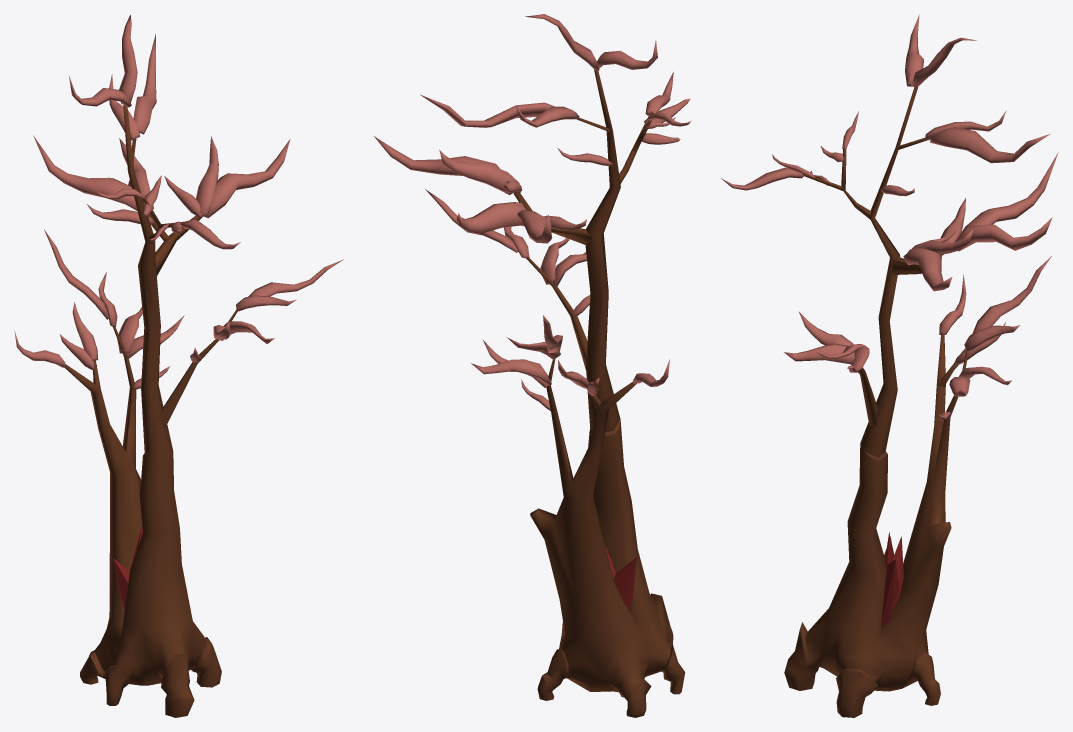
The model's file is Biome_1_Tree_A_var_3.glb.
The picture shows the model from 3 angles, left to right: view 1: azimuth 30°, elevation 25°; view 2: azimuth 150°, elevation 25°; view 3: azimuth 270°, elevation 25°; orthographic projection. The views are drawn at different scales.
Visible parts, largest first — view 1: Tree_A_var_3; view 2: Tree_A_var_3; view 3: Tree_A_var_3.
Part boxes in pixels (box(x1,y1,x2,y2)): Tree_A_var_3: box(14, 14, 343, 717); Tree_A_var_3: box(374, 14, 690, 717); Tree_A_var_3: box(721, 14, 1058, 717).
Size of the model in its own units: 2.6 by 5.68 by 2.63.
